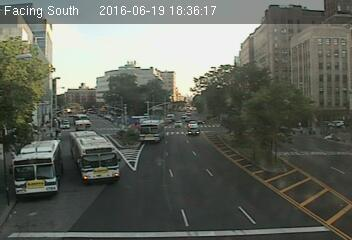neg: (240, 53, 269, 91), (44, 134, 73, 172), (294, 159, 320, 194), (31, 77, 57, 111), (308, 57, 334, 91), (94, 190, 117, 222), (169, 98, 192, 129), (154, 52, 177, 83), (113, 65, 135, 94), (92, 100, 114, 129), (285, 88, 306, 117), (205, 58, 226, 86), (150, 159, 171, 186), (77, 29, 98, 56), (211, 176, 231, 203), (237, 120, 255, 143), (88, 141, 103, 161)
